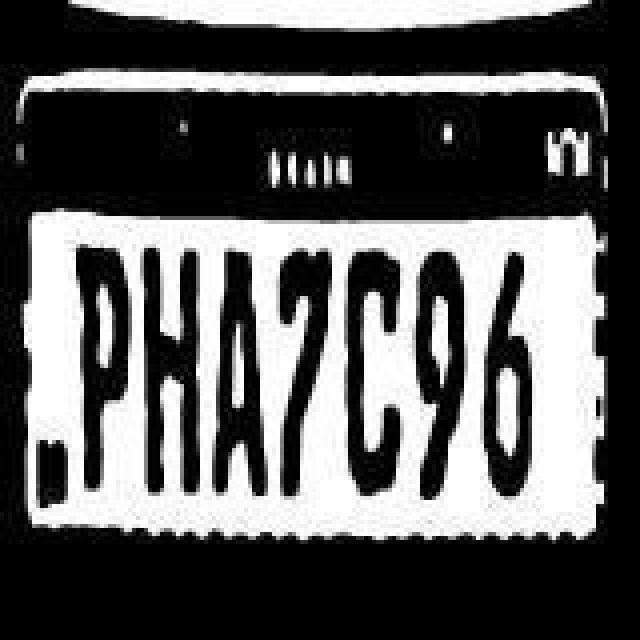6: (482, 248, 534, 504)
7: (274, 242, 334, 510)
9: (412, 250, 468, 502)
A: (210, 250, 270, 502)
C: (342, 244, 402, 500)
H: (142, 240, 202, 496)
P: (74, 240, 134, 496)
